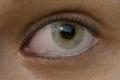eye: (51, 22, 83, 49)
